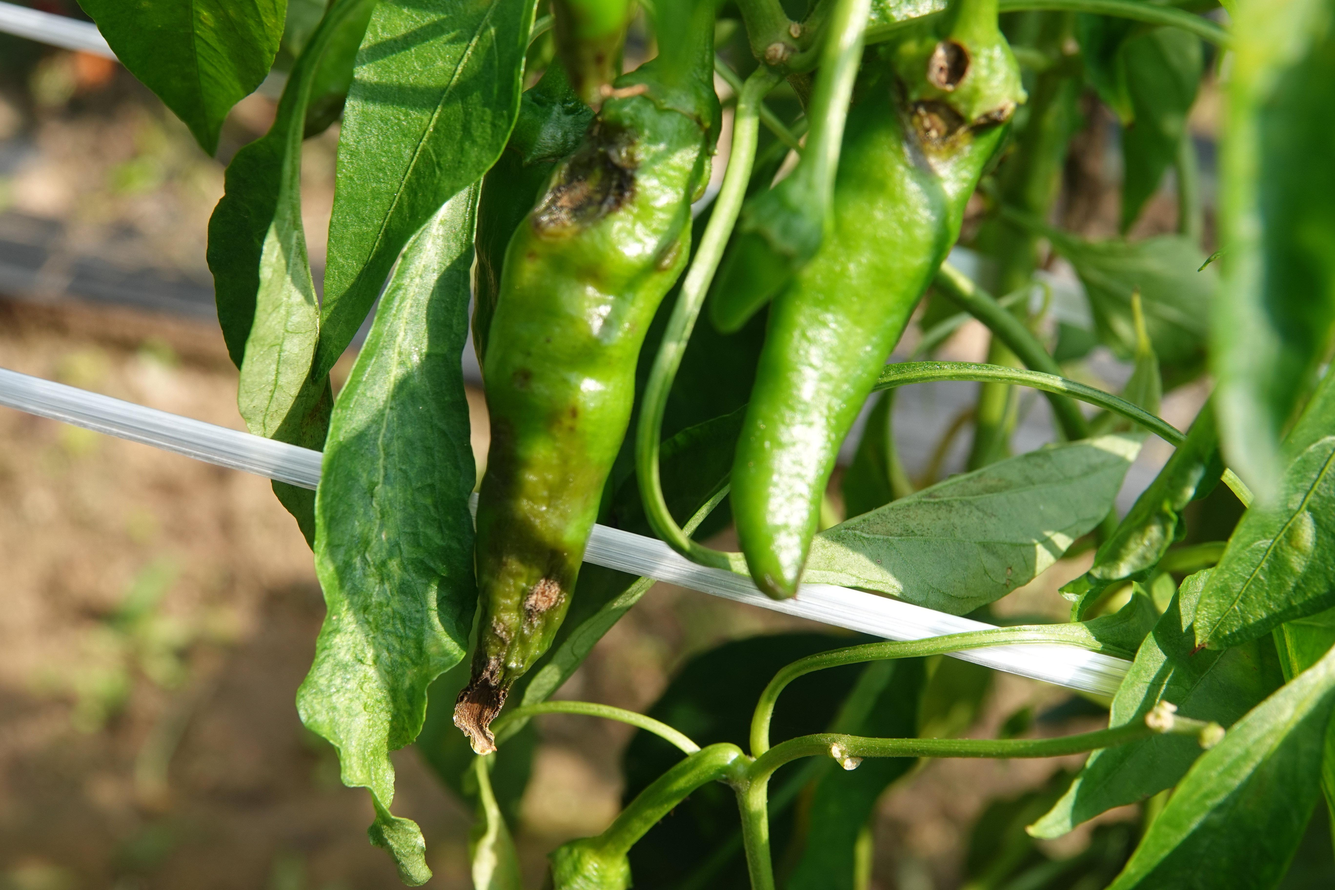Busuk Buah Antraknosa: (448, 77, 718, 757), (724, 31, 1022, 615)
